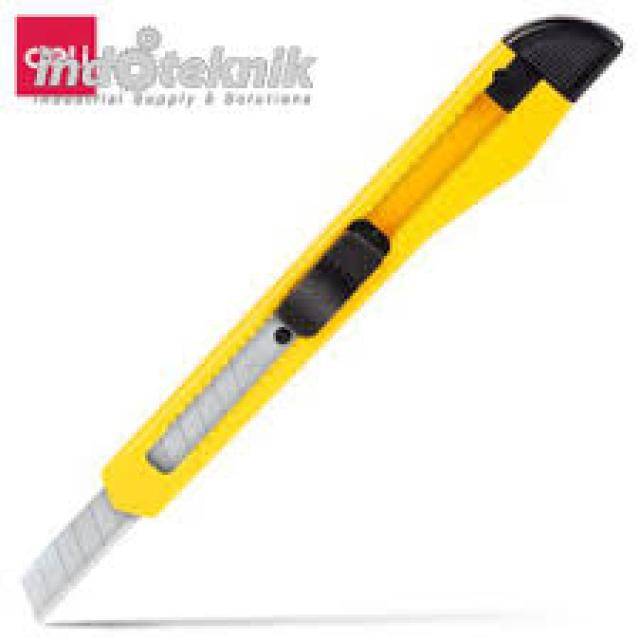Knife: (23, 17, 617, 617)
